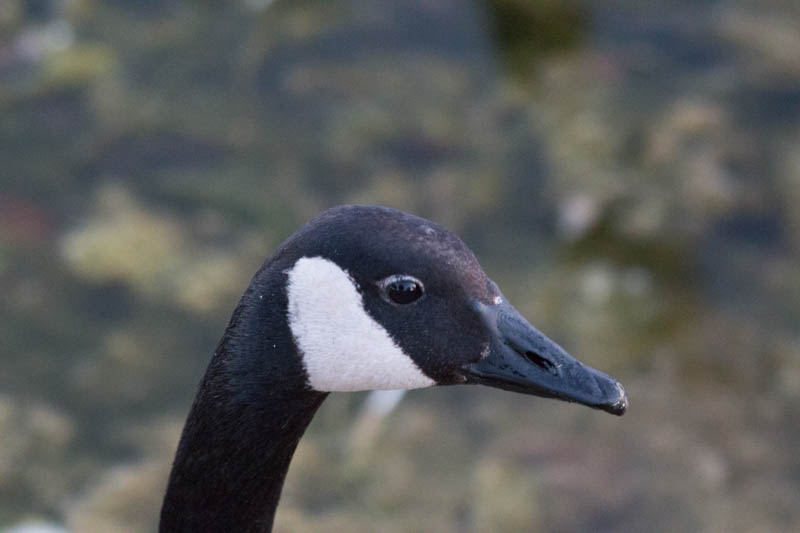goose-head: (227, 203, 630, 420)
